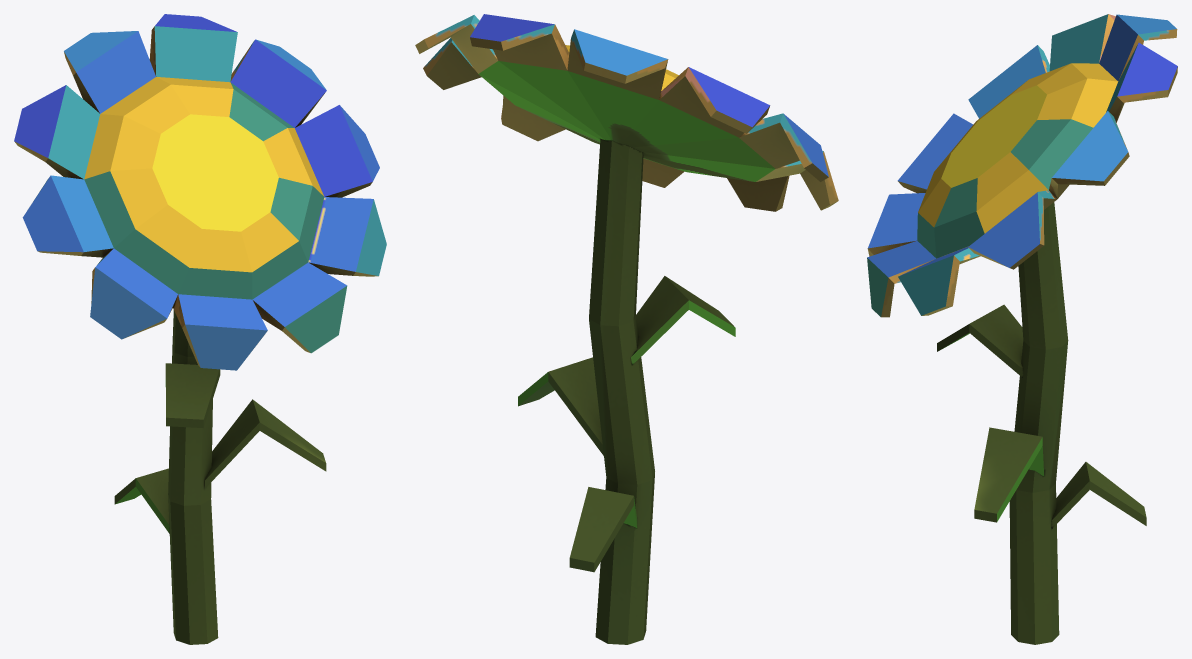
The model's file is sunflower3.gltf.
3 views of the same model, side by side, from view 1: azimuth 30°, elevation 25°; view 2: azimuth 150°, elevation 25°; view 3: azimuth 270°, elevation 25° (orthographic). The views are drawn at different scales.
Parts seen in each view (by area): view 1: sunflower; view 2: sunflower; view 3: sunflower.
Boxes of the visible parts, x1,y1,x2,y2 form: sunflower: (14,14,386,644); sunflower: (415,14,838,644); sunflower: (867,14,1177,644).
Bounding box in the file's own units: 0.3645 × 0.5804 × 0.2742.
Materials: 1 (1 with a texture image).
